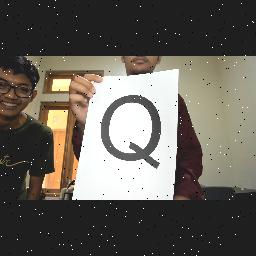q: (94, 88, 170, 174)
